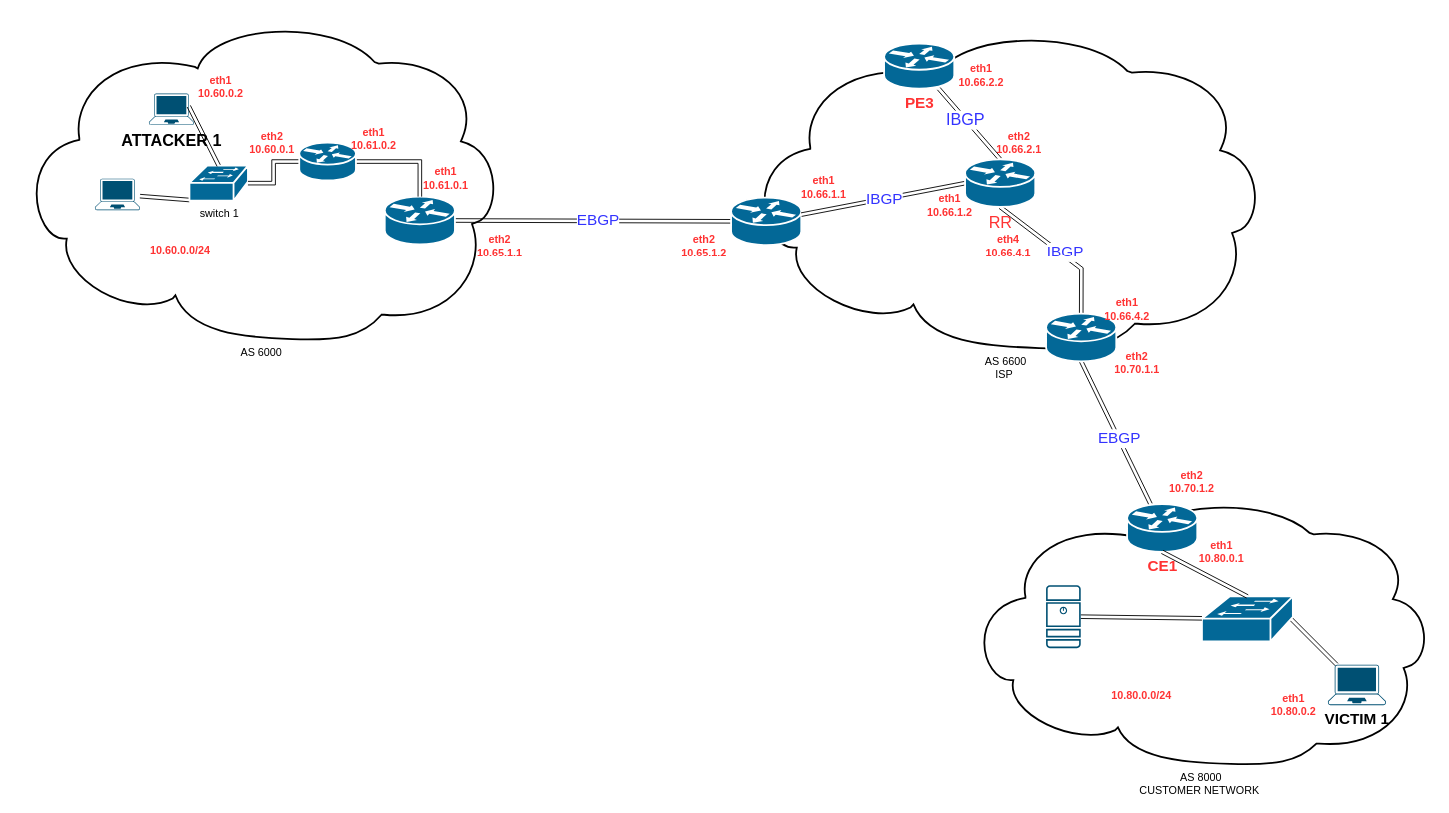
The diagram is 1449 pixels wide and 813 high, and some of its shapes have lost their labels. The centre of each missing label's shape, as x and y in pixels:
Attacker-router: [327,161]
PE1: [419,220]
PE2: [766,221]
PE4: [1081,337]
switch 2: [1247,618]
